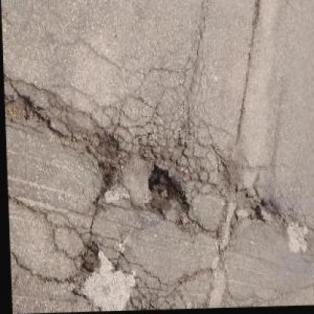Hueco: (140, 163, 190, 211), (94, 133, 123, 187), (4, 92, 43, 127), (244, 199, 281, 227), (71, 243, 100, 276)
